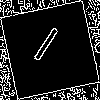I: (25, 25, 62, 72)
